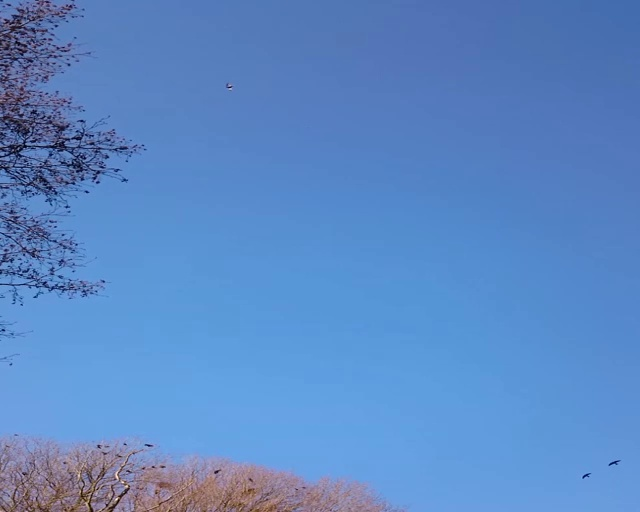BIRD: (582, 472, 592, 479)
